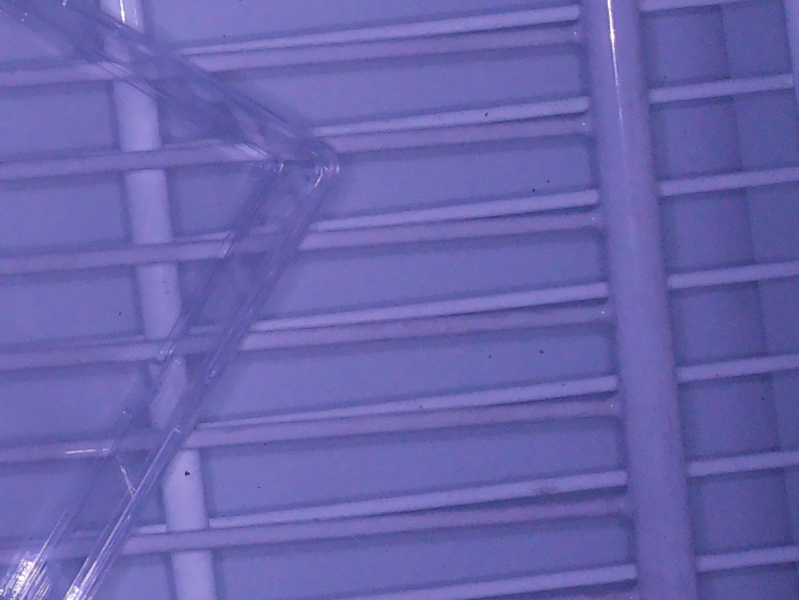plate: (1, 1, 342, 600)
